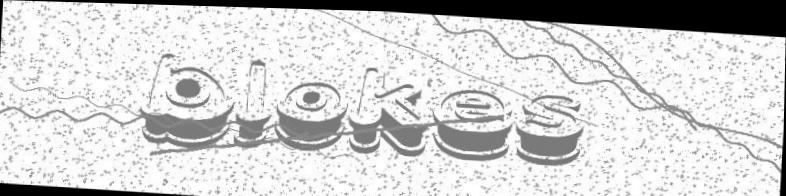b: (137, 44, 239, 150)
e: (430, 77, 517, 163)
k: (348, 58, 434, 158)
l: (233, 51, 278, 147)
o: (273, 70, 353, 157)
s: (513, 83, 590, 165)
